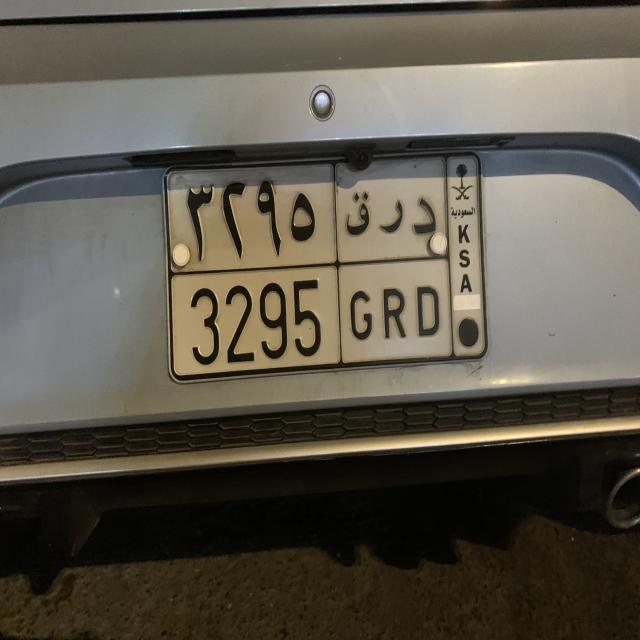license_plate: (159, 147, 491, 389)
